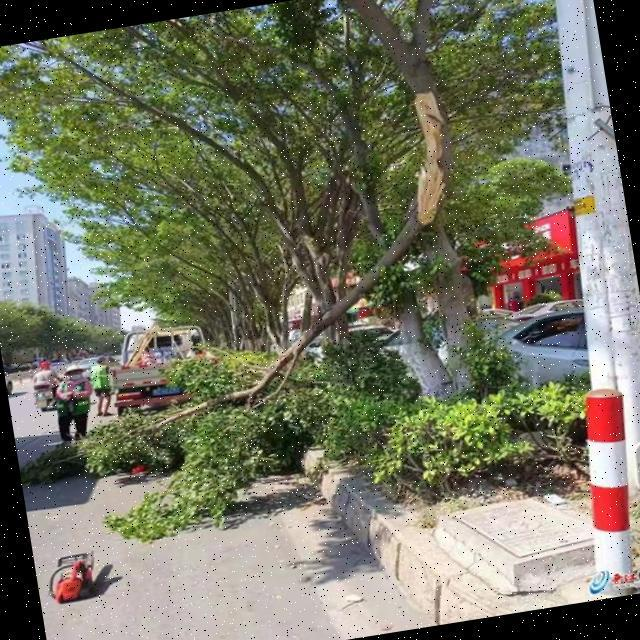fallen_object: (0, 81, 496, 498)
